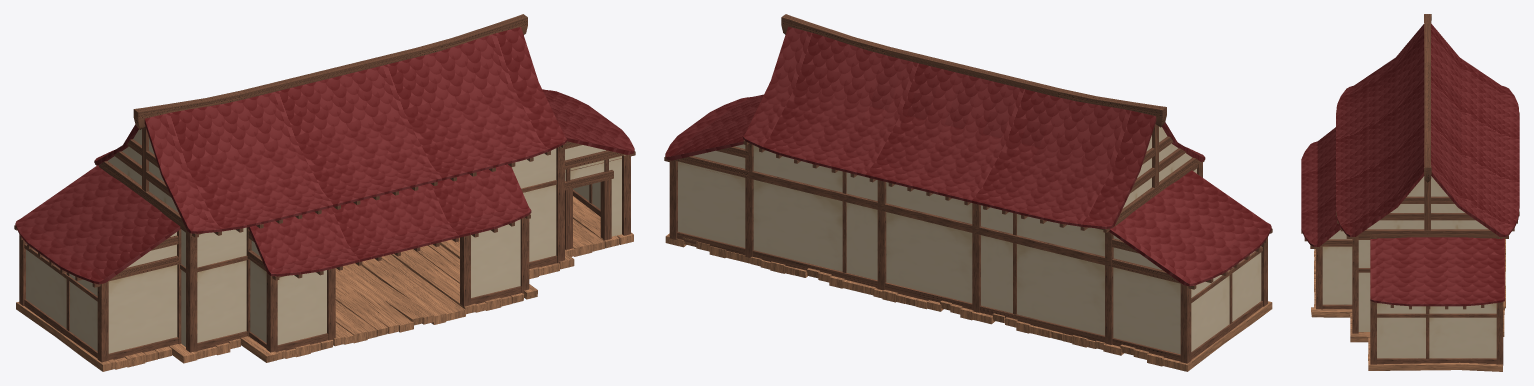
File: Farm_House_FINAL-FBX.fbx
3 views of the same model, side by side, from view 1: azimuth 30°, elevation 25°; view 2: azimuth 150°, elevation 25°; view 3: azimuth 270°, elevation 25° (orthographic). The views are drawn at different scales.
Visible parts, largest first — view 1: pCube3536; view 2: pCube3536; view 3: pCube3536.
Boxes of the visible parts, left/top/right/bottom form: pCube3536: left=14, top=14, right=635, bottom=371; pCube3536: left=664, top=14, right=1272, bottom=371; pCube3536: left=1301, top=14, right=1519, bottom=371.
Bounding box in the file's own units: 2900 × 1078 × 1209.
